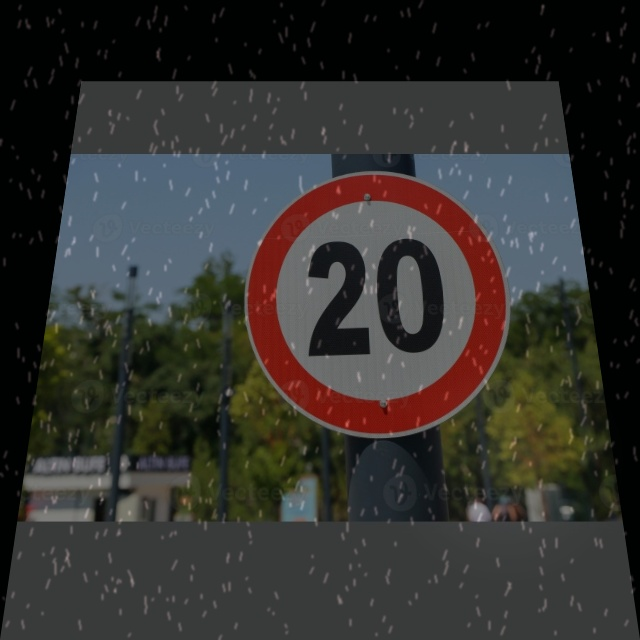Speed_Limit_20: (244, 168, 516, 425)
